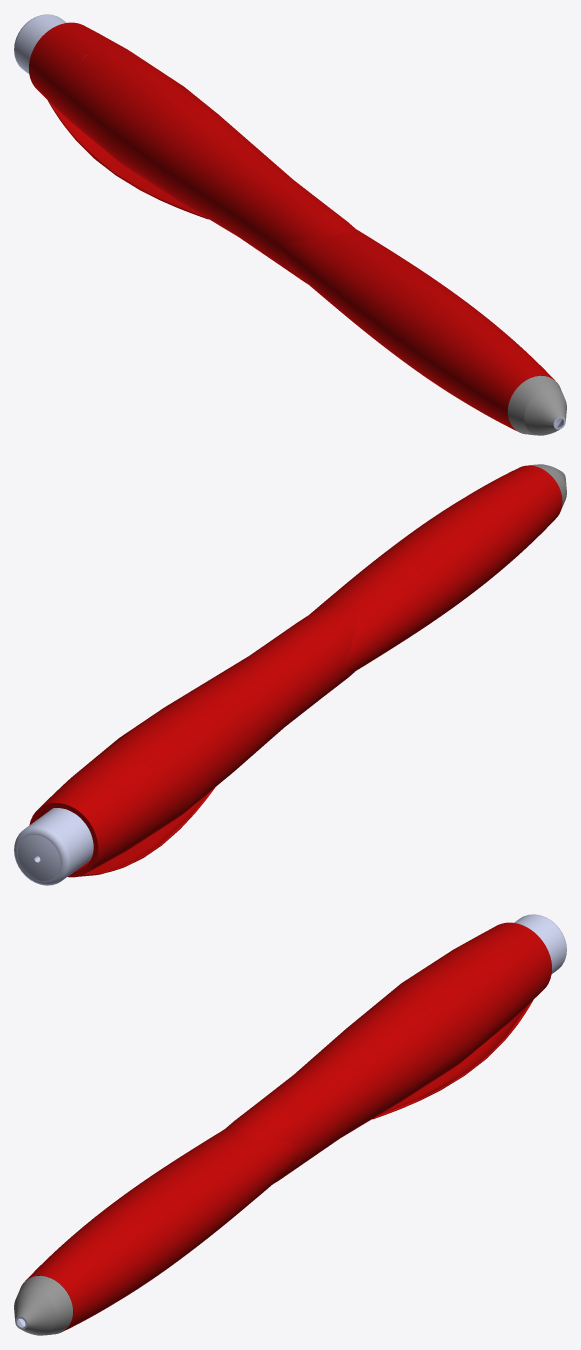
3 views of the same model, one above another, from view 1: azimuth 30°, elevation 25°; view 2: azimuth 150°, elevation 25°; view 3: azimuth 330°, elevation 25° (orthographic).
Parts seen in each view (by area): view 1: KALEM-4, KALEM-8, KALEM, KALEM-6, KALEM-2; view 2: KALEM-4, KALEM-8, KALEM, KALEM-2; view 3: KALEM-4, KALEM-8, KALEM, KALEM-6, KALEM-2.
Boxes of the visible parts, left/top/right/bottom form: KALEM-4: left=40, top=46, right=356, bottom=283; KALEM-8: left=279, top=229, right=560, bottom=434; KALEM: left=29, top=22, right=208, bottom=219; KALEM-6: left=508, top=375, right=566, bottom=435; KALEM-2: left=14, top=14, right=66, bottom=73; KALEM-4: left=48, top=602, right=356, bottom=851; KALEM-8: left=309, top=465, right=562, bottom=672; KALEM: left=29, top=767, right=215, bottom=877; KALEM-2: left=14, top=808, right=93, bottom=885; KALEM-4: left=224, top=946, right=540, bottom=1183; KALEM-8: left=20, top=1129, right=301, bottom=1334; KALEM: left=372, top=922, right=551, bottom=1119; KALEM-6: left=14, top=1275, right=72, bottom=1335; KALEM-2: left=514, top=914, right=566, bottom=973.
Size of the model in its own units: 0.0889 by 0.1019 by 0.9329.
